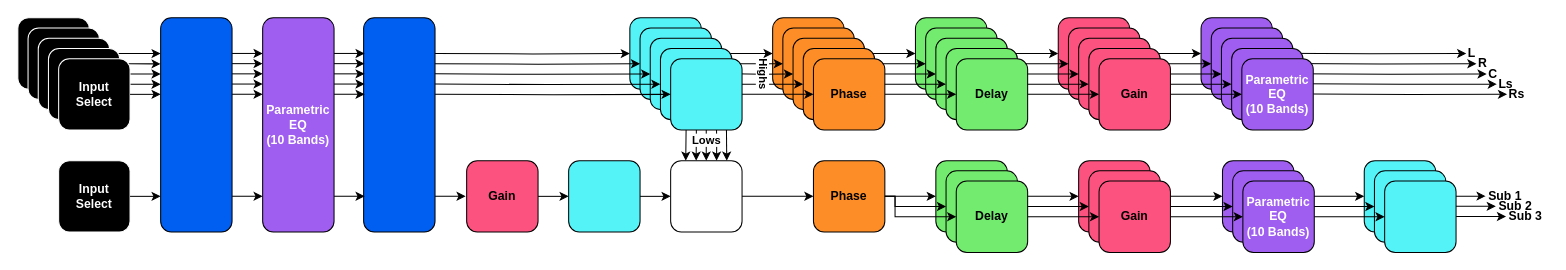
Image size: 1566x270. Some labels were removed from this diagram. The centre of each missing label's shape, as x and y in pixels:
Crossover: [706,94]
High Shelving: [399,124]
Highpass: [1420,216]
Low Shelving: [196,124]
Lowpass: [604,196]
Summation: [706,196]
